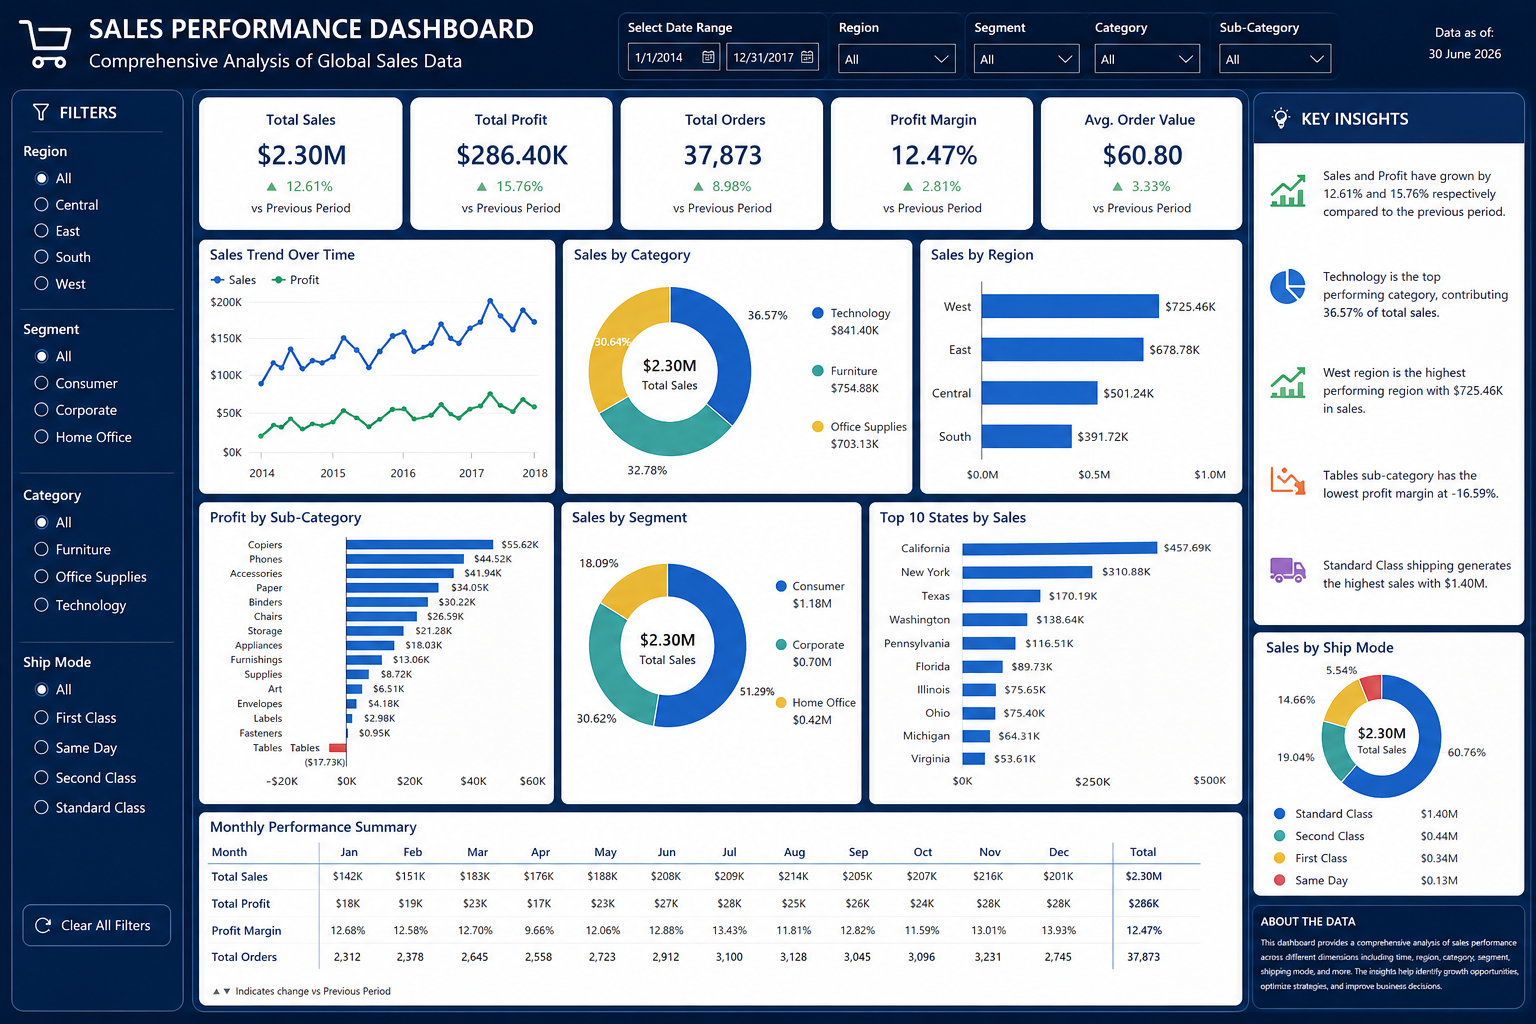

The dashboard page shown, as its layout file describes it:
{"tool":"powerbi","page":{"name":"Page 1","canvas":[2700,1600],"ordinal":0},"visuals":[{"type":"shape","title":"Monthly Performance Summary","box":[1273.5,942.9,842.9,610.2],"z":1000},{"type":"shape","box":[23.9,15.9,330.9,1550.7],"z":2000},{"type":"cardVisual","title":"Total Sales ","fields":{"Data":["Global_Superstore2.Total Sales"]},"box":[382.7,23.9,334.8,303],"z":3000},{"type":"cardVisual","title":"Total Profit","fields":{"Data":["Global_Superstore2.Total Profit"]},"box":[735.5,23.9,334.8,303],"z":4000},{"type":"textbox","box":[471,229,211.3,66.1],"z":5000},{"type":"cardVisual","title":"Total Orders","fields":{"Data":["Global_Superstore2.Total Orders"]},"box":[1088.2,19.9,334.8,303],"z":6000},{"type":"textbox","box":[1212.9,183.9,119.4,45.2],"z":7000},{"type":"textbox","box":[848.4,229,166.1,38.7],"z":8000},{"type":"cardVisual","title":"Profit Margin","fields":{"Data":["Global_Superstore2.Profit Margin"]},"box":[1441,19.9,330.9,303],"z":9000},{"type":"cardVisual","title":"Avg. Order Value","fields":{"Data":["Global_Superstore2.Avg. Order Value"]},"box":[1789.8,19.9,334.8,303],"z":10000},{"type":"textbox","box":[864.5,183.9,132.3,45.2],"z":11000},{"type":"textbox","box":[511.3,183.9,132.3,45.2],"z":12000},{"type":"textbox","box":[1190.3,229,164.5,38.7],"z":13000},{"type":"textbox","box":[1541.9,229,166.1,38.7],"z":14000},{"type":"textbox","box":[1559.7,183.9,130.6,45.2],"z":15000},{"type":"textbox","box":[1909.7,183.9,174.2,45.2],"z":16000},{"type":"textbox","box":[1890.3,229,164.5,38.7],"z":17000},{"type":"listSlicer","fields":{"Values":["Global_Superstore2.Region"]},"box":[51.8,107.6,400,490.3],"z":18000},{"type":"listSlicer","fields":{"Values":["Global_Superstore2.Segment"]},"box":[47.8,625.8,291,183.4],"z":19000},{"type":"listSlicer","fields":{"Values":["Global_Superstore2.Category"]},"box":[43.8,833.1,295,219.2],"z":20000},{"type":"listSlicer","fields":{"Values":["Global_Superstore2.Ship Mode"]},"box":[43.8,1084.3,287,300],"z":21000},{"type":"shape","box":[55.8,386.7,275.1,426.5],"z":22000},{"type":"shape","box":[55.8,594,275.1,426.5],"z":23000},{"type":"shape","box":[55.8,813.2,275.1,426.5],"z":24000},{"type":"actionButton","title":"↻ Clear All Filters","box":[43.8,1363.3,295,139.5],"z":25000},{"type":"actionButton","title":"↻ Clear All Filters","box":[23.9,15.9,295,99.7],"z":26000},{"type":"textbox","box":[2145.3,0,537.7,1550.9],"z":27000},{"type":"textbox","box":[2177.4,22.6,474.2,109.7],"z":28000},{"type":"lineChart","title":"Sales Trend Over Time","fields":{"Category":["Global_Superstore2.Year"],"Y":["Global_Superstore2.Total Sales","Global_Superstore2.Total Profit"]},"box":[390.3,332.3,864.5,590.3],"z":29000},{"type":"donutChart","title":" Sales by Category","fields":{"Category":["Global_Superstore2.Category"],"Y":["Global_Superstore2.Total Sales"]},"box":[1274.2,332.3,851.6,590.3],"z":30000},{"type":"cardVisual","fields":{"Data":["Global_Superstore2.Total Sales"]},"box":[1490.3,561.3,232.3,154.8],"z":31000},{"type":"clusteredBarChart","title":" Profit by Sub-Category","fields":{"Y":["Global_Superstore2.Total Profit"],"Category":["Global_Superstore2.Sub-Category"]},"box":[390.3,941.9,864.5,625.8],"z":32000},{"type":"pivotTable","fields":{"Columns":["Global_Superstore2.Month Name"],"Values":["Global_Superstore2.Total Profit"]},"box":[1304.1,1363.3,779.6,102],"z":33000},{"type":"pivotTable","fields":{"Columns":["Global_Superstore2.Month Name"],"Values":["Global_Superstore2.Profit Margin"]},"box":[1304.1,1051,779.6,89.8],"z":34000},{"type":"pivotTable","fields":{"Columns":["Global_Superstore2.Month Name"],"Values":["Global_Superstore2.Total Orders"]},"box":[1304.1,1157.1,779.6,91.8],"z":35000},{"type":"pivotTable","fields":{"Columns":["Global_Superstore2.Month Name"],"Values":["Global_Superstore2.Total Sales"]},"box":[1304.1,1255.1,785.7,91.8],"z":36000},{"type":"textbox","box":[1495.9,1465.3,451,71.4],"z":37000},{"type":"textbox","box":[2145,132.5,537.5,757.5],"z":38500},{"type":"image","box":[2177.5,122.5,82.5,127.5],"z":39000},{"type":"textbox","box":[2292.5,147.5,390,167.5],"z":39001},{"type":"image","box":[2177.5,265,82.5,127.5],"z":39002},{"type":"textbox","box":[2292.5,277.5,360,150],"z":39003},{"type":"image","box":[2177.5,447.5,82.5,127.5],"z":39004},{"type":"textbox","box":[2292.5,450,360,150],"z":39005},{"type":"image","box":[2177.5,600,82.5,127.5],"z":39006},{"type":"textbox","box":[2292.5,600,360,150],"z":39007},{"type":"image","box":[2177.5,752.5,82,127.5],"z":39008},{"type":"textbox","box":[2292.5,742.5,360,137.5],"z":39009},{"type":"donutChart","title":" Sales by Ship Mode","fields":{"Category":["Global_Superstore2.Ship Mode"],"Y":["Global_Superstore2.Total Sales"]},"box":[2155,915,517.5,595.8],"z":39010}]}

Visuals, with their boxes on the page's 2700x1600 design canvas (x1, y1, x2, y2). These are canvas units, not pixel positions in the 1536x1024 screenshot, which may show the page scaled, cropped or inside an application window:
"Monthly Performance Summary" shape: 1274, 943, 2116, 1553
shape: 24, 16, 355, 1567
"Total Sales " cardVisual: 383, 24, 718, 327
"Total Profit" cardVisual: 736, 24, 1070, 327
textbox: 471, 229, 682, 295
"Total Orders" cardVisual: 1088, 20, 1423, 323
textbox: 1213, 184, 1332, 229
textbox: 848, 229, 1014, 268
"Profit Margin" cardVisual: 1441, 20, 1772, 323
"Avg. Order Value" cardVisual: 1790, 20, 2125, 323
textbox: 864, 184, 997, 229
textbox: 511, 184, 644, 229
textbox: 1190, 229, 1355, 268
textbox: 1542, 229, 1708, 268
textbox: 1560, 184, 1690, 229
textbox: 1910, 184, 2084, 229
textbox: 1890, 229, 2055, 268
listSlicer - Global_Superstore2.Region: 52, 108, 452, 598
listSlicer - Global_Superstore2.Segment: 48, 626, 339, 809
listSlicer - Global_Superstore2.Category: 44, 833, 339, 1052
listSlicer - Global_Superstore2.Ship Mode: 44, 1084, 331, 1384
shape: 56, 387, 331, 813
shape: 56, 594, 331, 1020
shape: 56, 813, 331, 1240
"↻ Clear All Filters" actionButton: 44, 1363, 339, 1503
"↻ Clear All Filters" actionButton: 24, 16, 319, 116
textbox: 2145, 0, 2683, 1551
textbox: 2177, 23, 2652, 132
"Sales Trend Over Time" lineChart: 390, 332, 1255, 923
" Sales by Category" donutChart: 1274, 332, 2126, 923
cardVisual - Global_Superstore2.Total Sales: 1490, 561, 1723, 716
" Profit by Sub-Category" clusteredBarChart: 390, 942, 1255, 1568
pivotTable - Global_Superstore2.Month Name x Global_Superstore2.Total Profit: 1304, 1363, 2084, 1465
pivotTable - Global_Superstore2.Month Name x Global_Superstore2.Profit Margin: 1304, 1051, 2084, 1141
pivotTable - Global_Superstore2.Month Name x Global_Superstore2.Total Orders: 1304, 1157, 2084, 1249
pivotTable - Global_Superstore2.Month Name x Global_Superstore2.Total Sales: 1304, 1255, 2090, 1347
textbox: 1496, 1465, 1947, 1537
textbox: 2145, 132, 2682, 890
image: 2178, 122, 2260, 250
textbox: 2292, 148, 2682, 315
image: 2178, 265, 2260, 392
textbox: 2292, 278, 2652, 428
image: 2178, 448, 2260, 575
textbox: 2292, 450, 2652, 600
image: 2178, 600, 2260, 728
textbox: 2292, 600, 2652, 750
image: 2178, 752, 2260, 880
textbox: 2292, 742, 2652, 880
" Sales by Ship Mode" donutChart: 2155, 915, 2672, 1511
